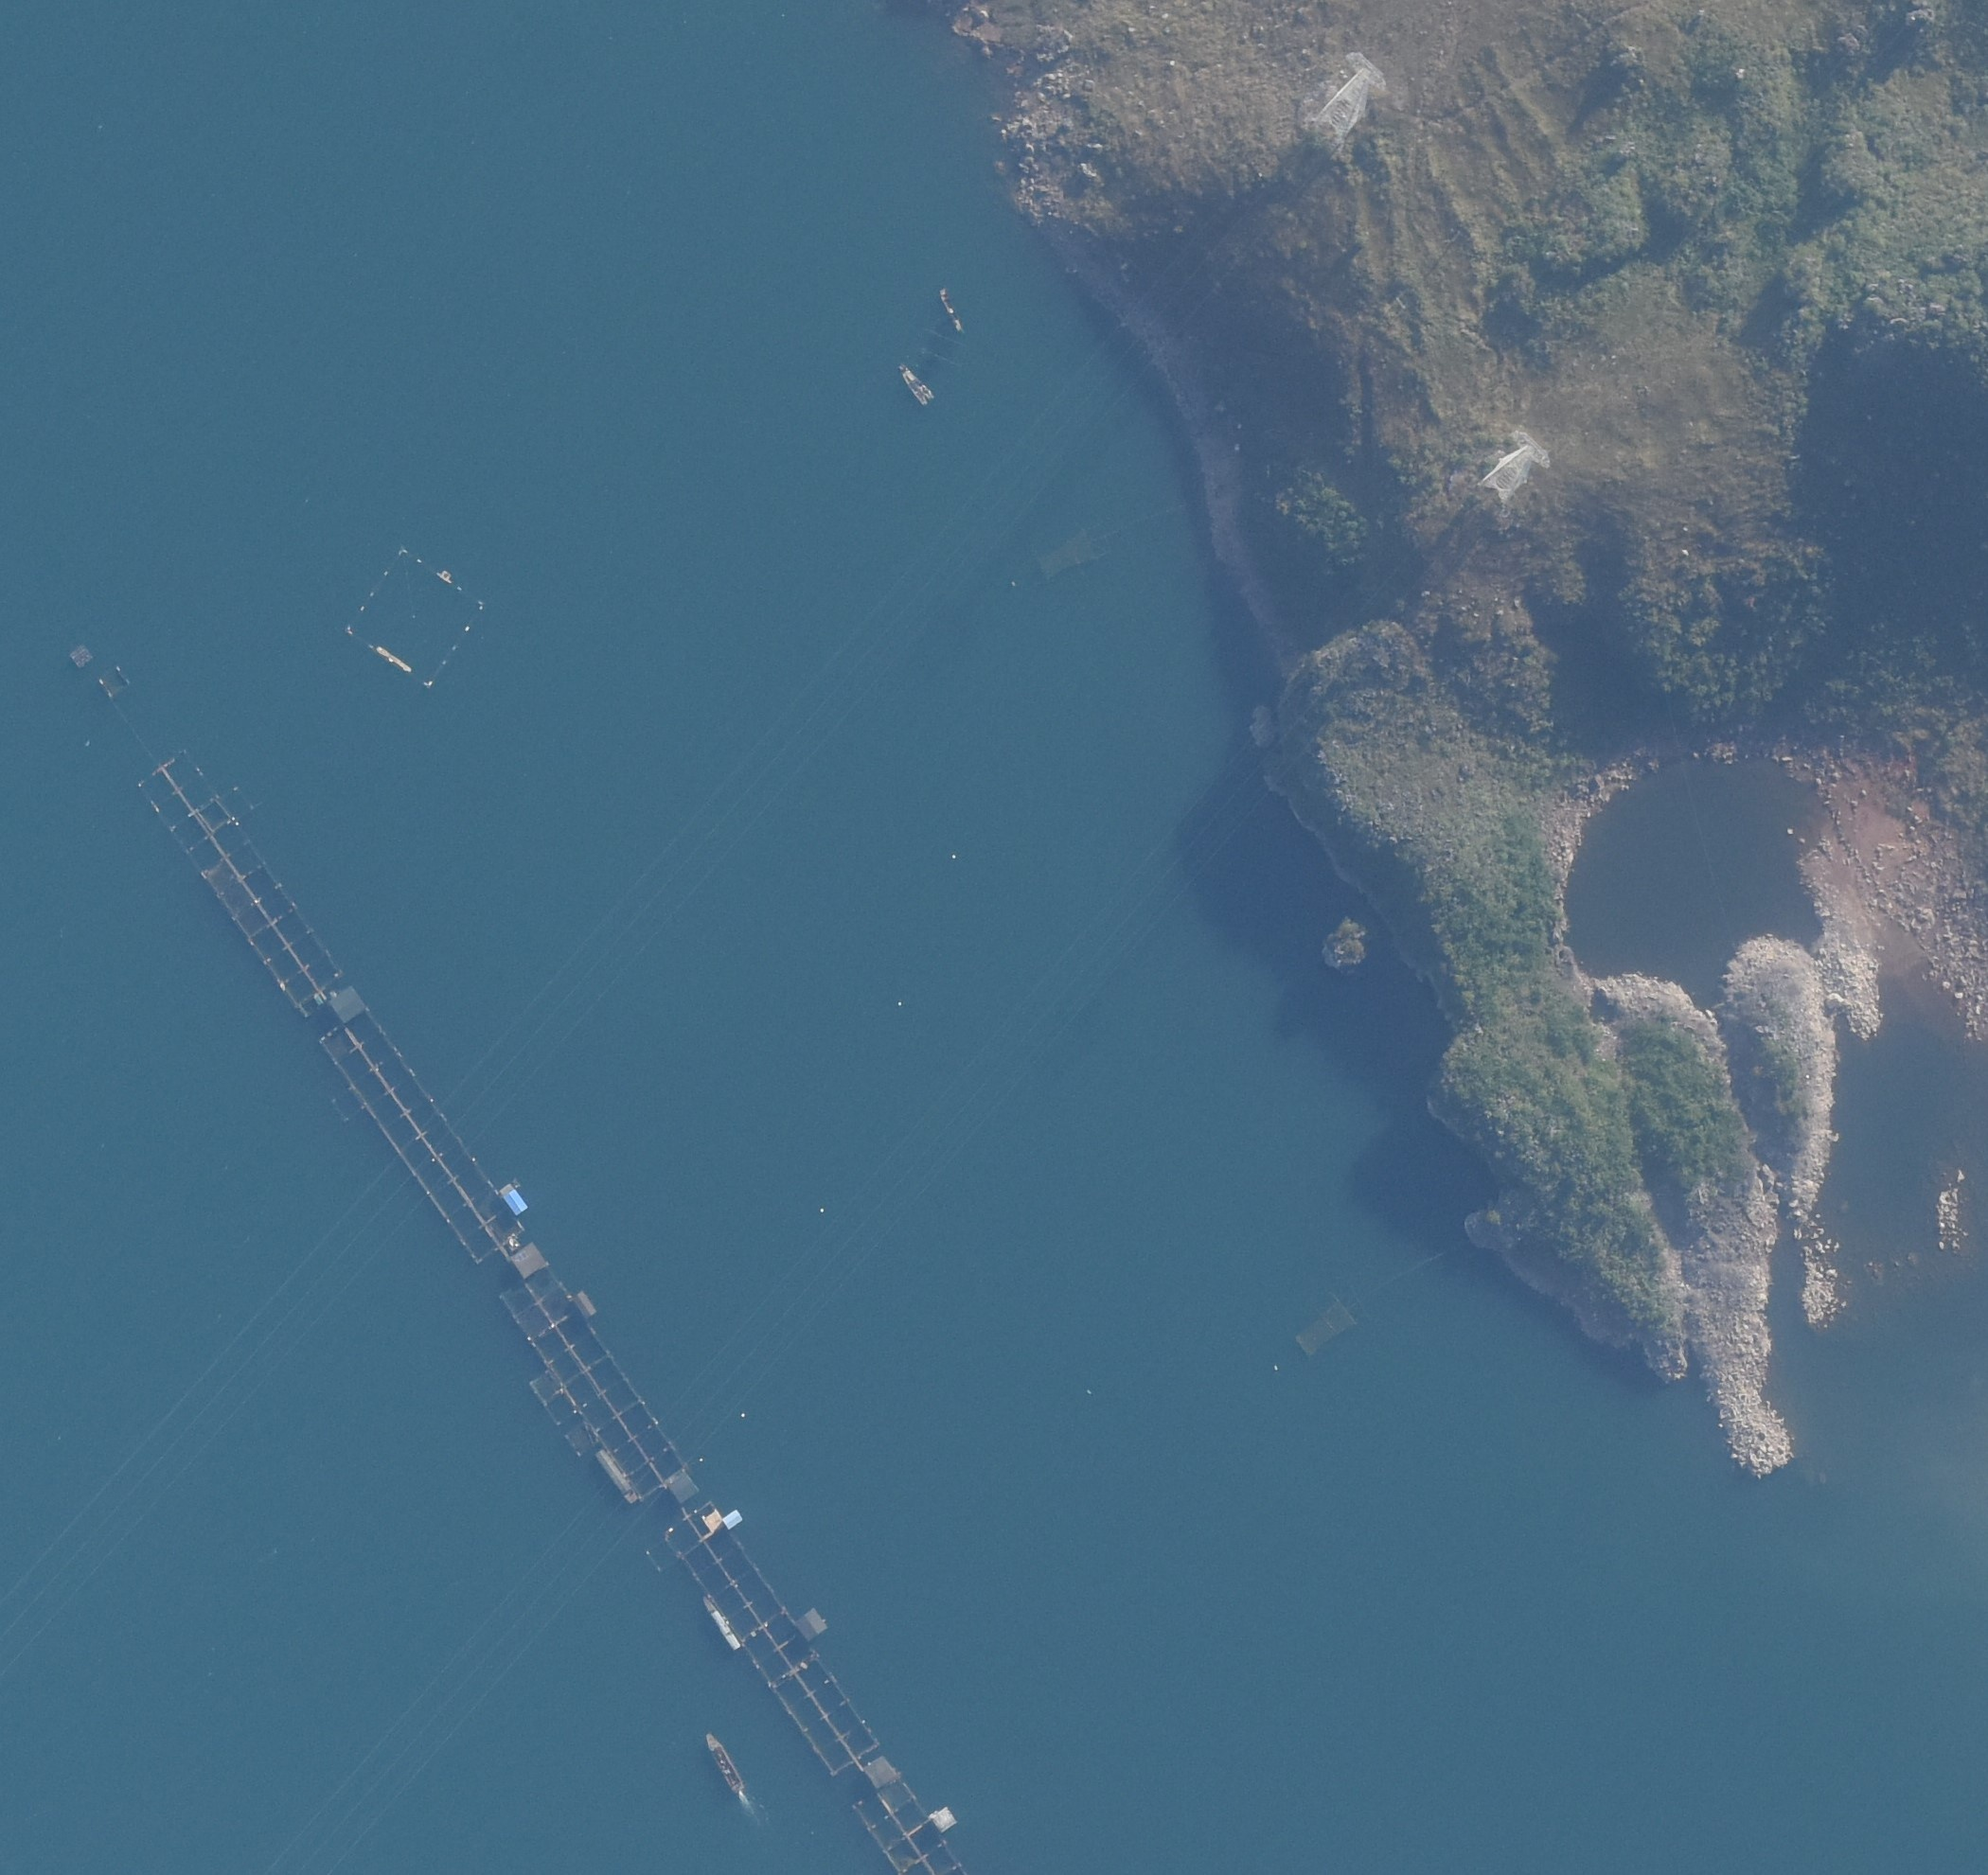cable-tower: (1317, 53, 1385, 139), (1477, 426, 1549, 504)
cultivation-mesh-cage: (645, 1501, 881, 1778), (134, 751, 344, 1015), (319, 1004, 525, 1262), (501, 1269, 689, 1501), (345, 548, 493, 684), (858, 1778, 964, 1875), (1288, 1299, 1362, 1357), (1031, 527, 1105, 580), (97, 656, 130, 698)
pool: (1524, 721, 1896, 1031)
prefabricated-house: (328, 983, 365, 1022), (509, 1241, 546, 1278), (795, 1604, 828, 1644), (865, 1753, 897, 1789), (499, 1182, 530, 1212), (573, 1286, 597, 1318), (929, 1803, 955, 1829), (703, 1507, 719, 1533), (723, 1508, 742, 1528)
ship: (705, 1727, 745, 1796), (596, 1449, 643, 1503), (700, 1591, 744, 1649), (897, 361, 936, 409), (938, 287, 964, 333)
